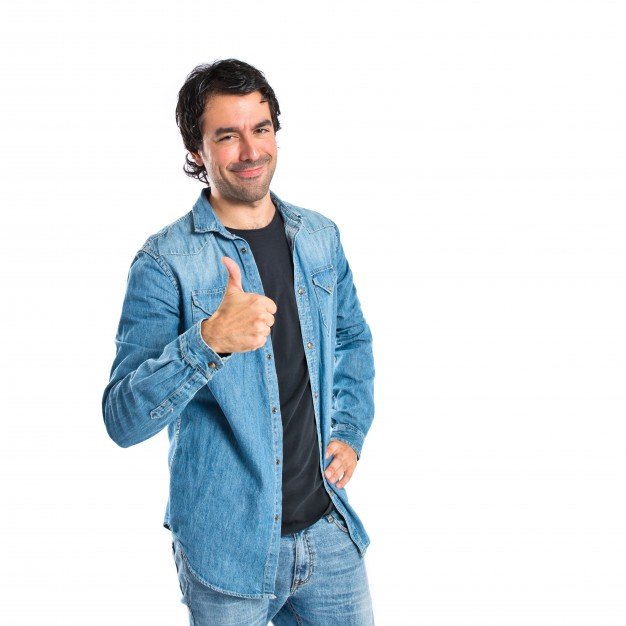thumbsup: (222, 257, 277, 350)
